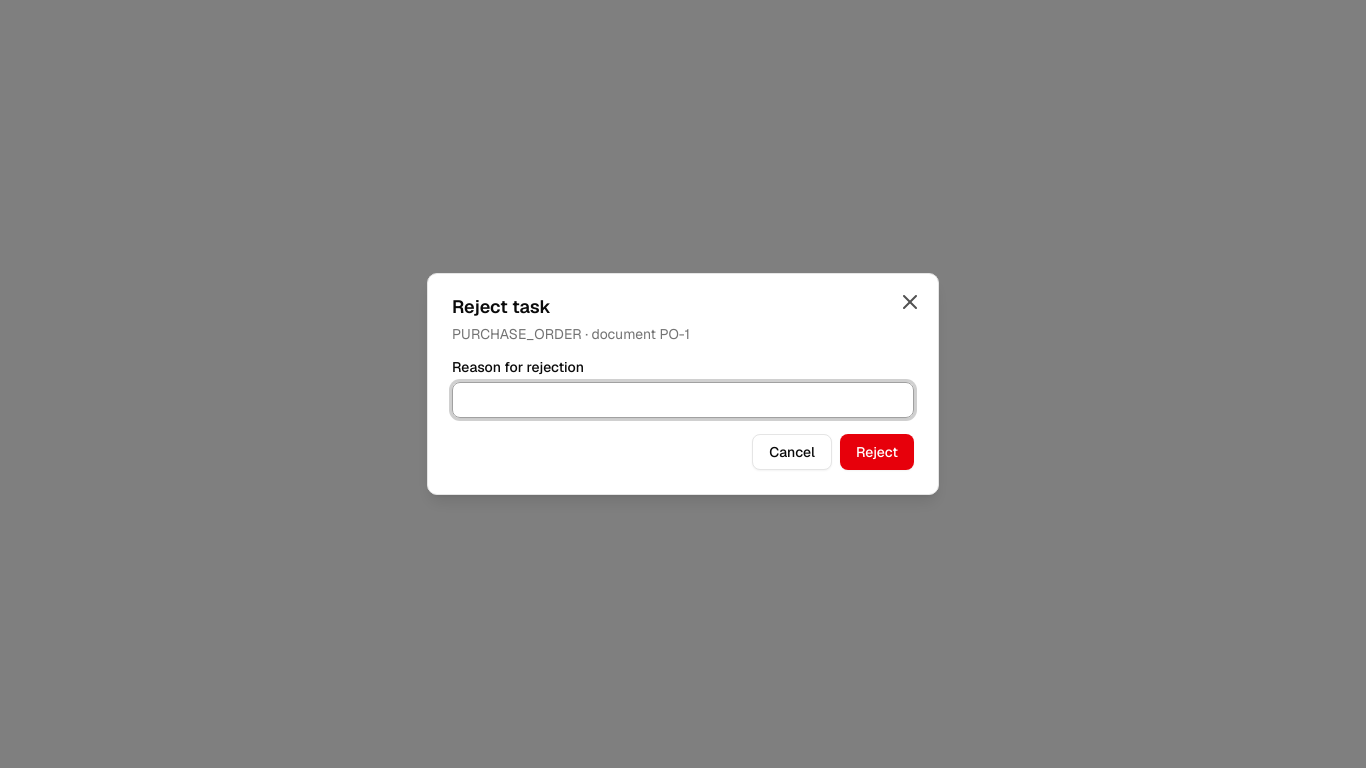
Test case: ApprovalDecisionDialog › blocks rejection without a comment (WF-6)
Click the button "Reject" at [877, 452], box left=840, top=434, right=914, bottom=470
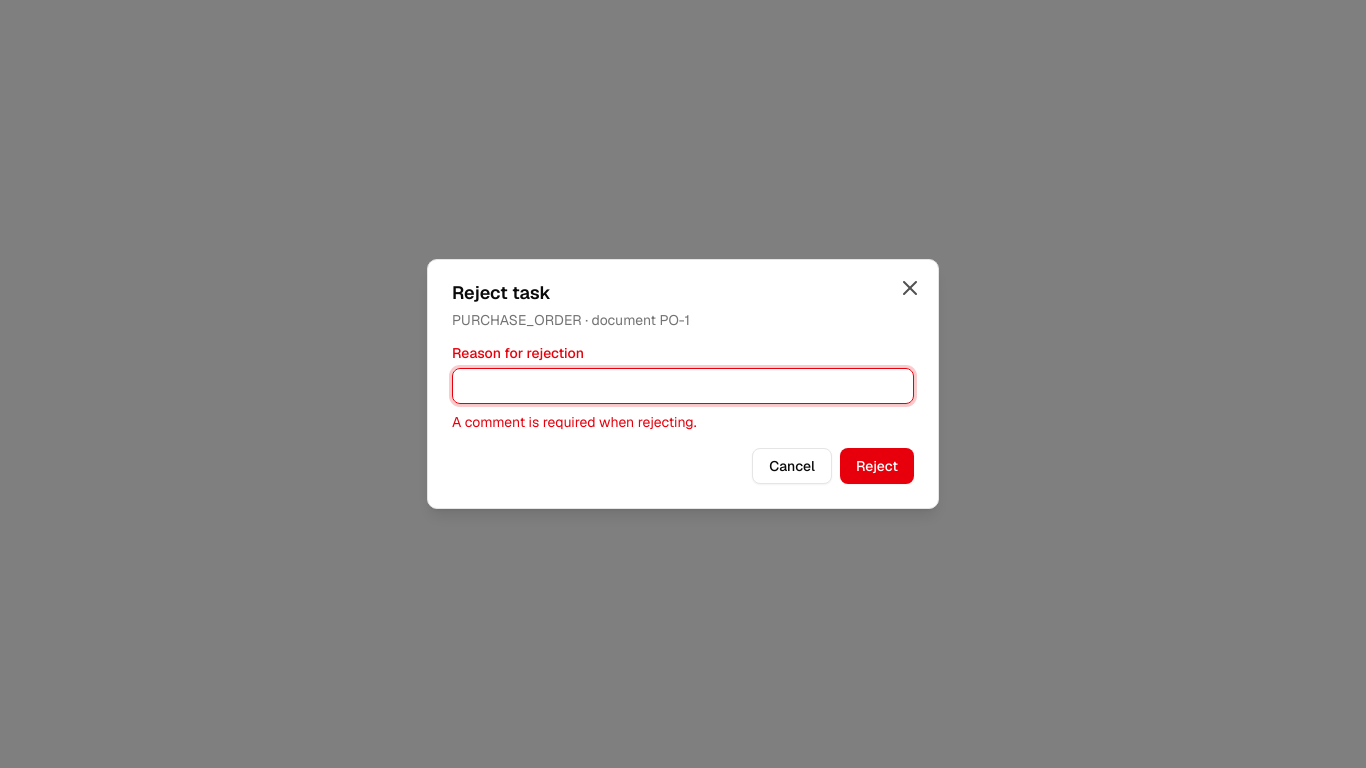
Expected: the text "A comment is required when rejecting." is shown, left=452, top=413, right=696, bottom=431
